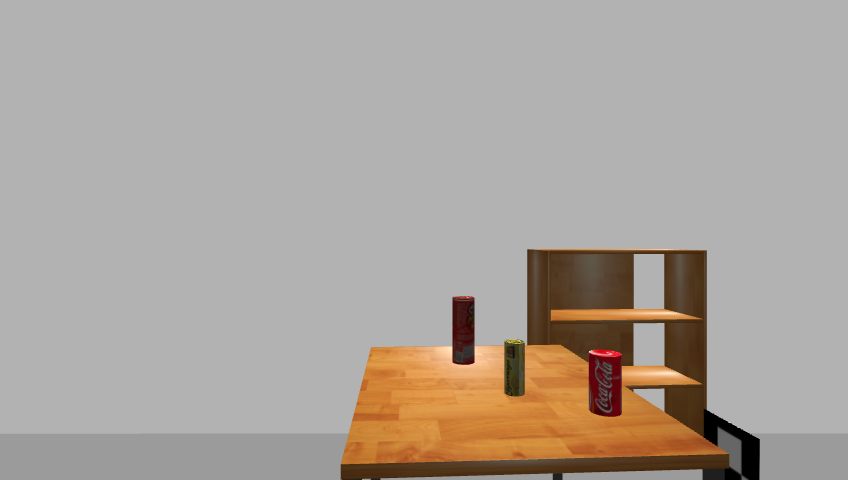aruco marker: (699, 409, 765, 480)
biscuits pack: (504, 340, 526, 398)
bookshelf: (522, 247, 716, 479)
coke can: (586, 350, 624, 417)
dinner table: (335, 344, 730, 480)
pringles can: (450, 295, 477, 367)
